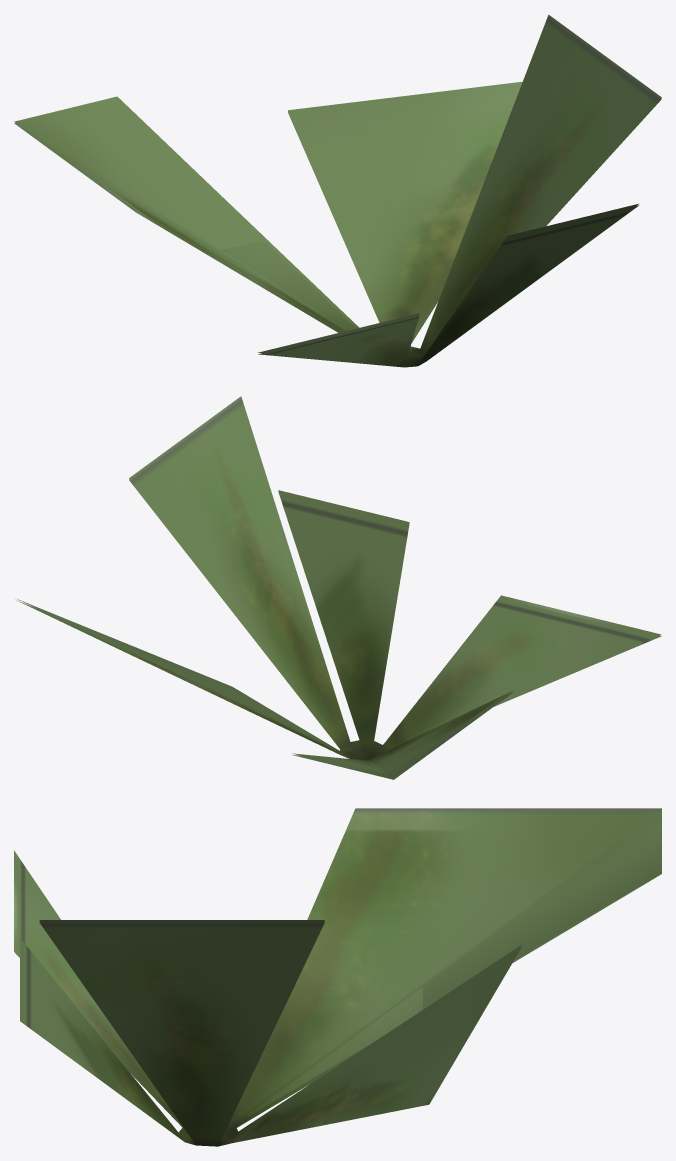
The model's file is BgMD_Tanihira_PlantY_05_01.fbx.
The picture shows the model from 3 angles, top to bottom: view 1: azimuth 30°, elevation 25°; view 2: azimuth 150°, elevation 25°; view 3: azimuth 270°, elevation 25°; orthographic projection. The views are drawn at different scales.
Visible parts, largest first — view 1: pPlane8; view 2: pPlane8; view 3: pPlane8.
Boxes of the visible parts, x1,y1,x2,y2 form: pPlane8: (14, 14, 661, 367); pPlane8: (16, 396, 661, 779); pPlane8: (14, 808, 661, 1146).
Bounding box in the file's own units: 19.22 × 9.88 × 17.49.
